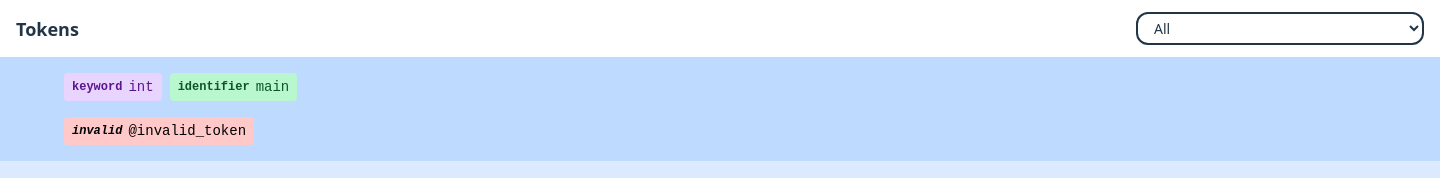
Test: TokenDisplay Component › renders and filters by token type
Select "keyword" in the dropdown at [1280, 28], box [1136,12,1424,45]
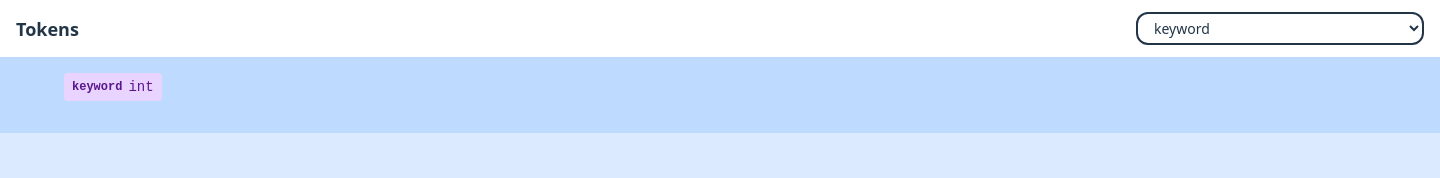
Expected: the text "int" is shown, [128,79,154,95]
Now the text "main" is gone
